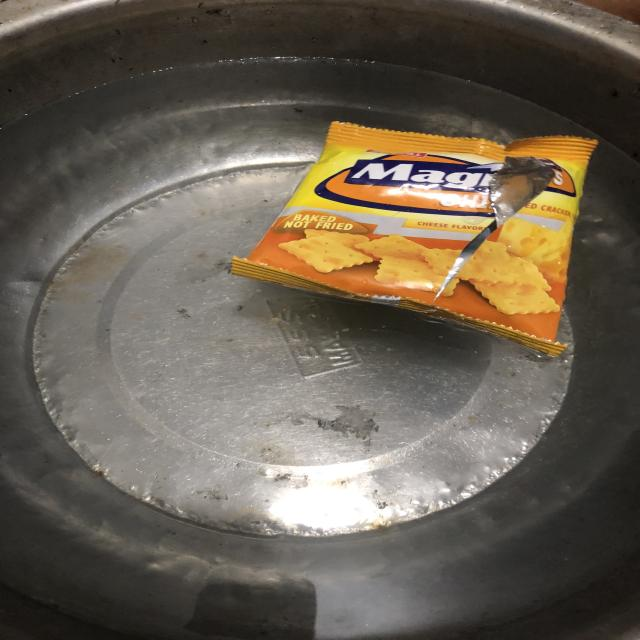Plastic Wrapper: (223, 115, 617, 356)
